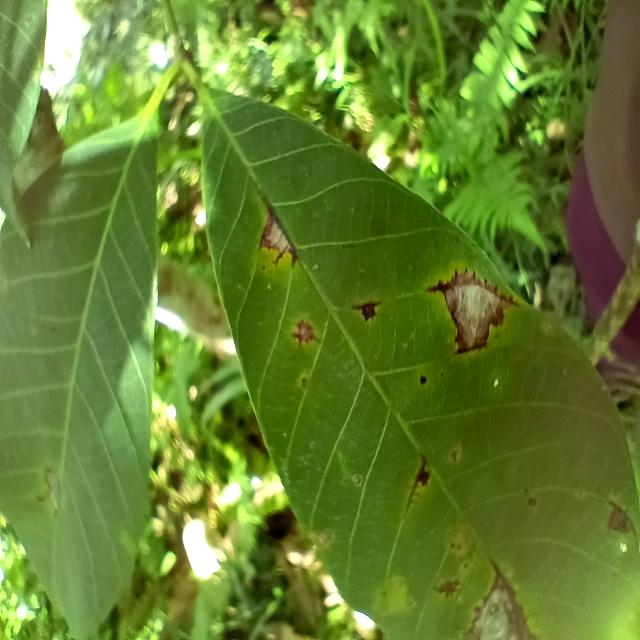Colletotrichum: (420, 376, 427, 386)
Corynespora: (426, 266, 516, 308), (489, 560, 534, 640), (258, 198, 298, 268), (406, 450, 431, 510), (350, 299, 382, 323), (454, 335, 486, 355)
Leaf-Blight: (446, 272, 510, 346), (475, 586, 518, 640), (267, 223, 290, 255)
